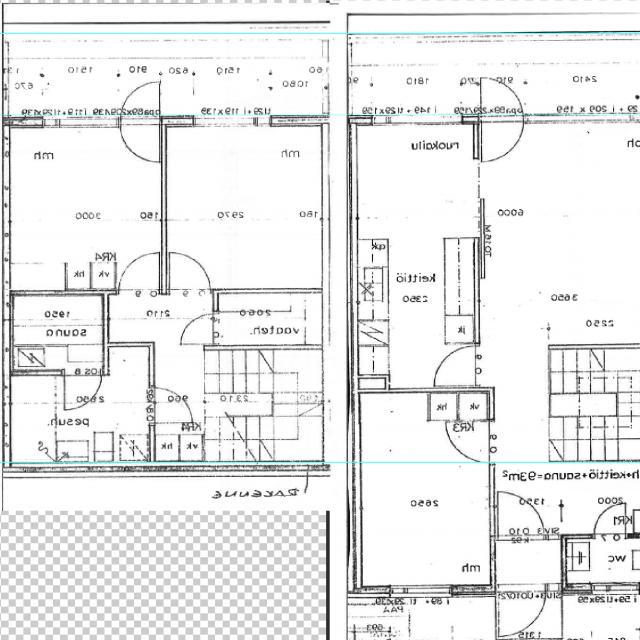door: (499, 584, 546, 640), (480, 72, 525, 125), (480, 115, 525, 168), (499, 491, 544, 539), (446, 422, 496, 464), (170, 250, 212, 294), (121, 79, 158, 127), (121, 114, 158, 162), (119, 251, 159, 294), (434, 347, 478, 384), (148, 387, 192, 422), (65, 369, 101, 410), (594, 502, 626, 540), (184, 313, 218, 342)
